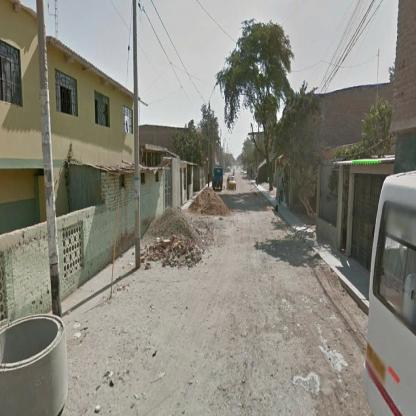Moto: (234, 169, 235, 176)
Peaton: (280, 178, 285, 206)
Vehiculo: (364, 169, 416, 416), (214, 168, 224, 194), (226, 176, 238, 191)
